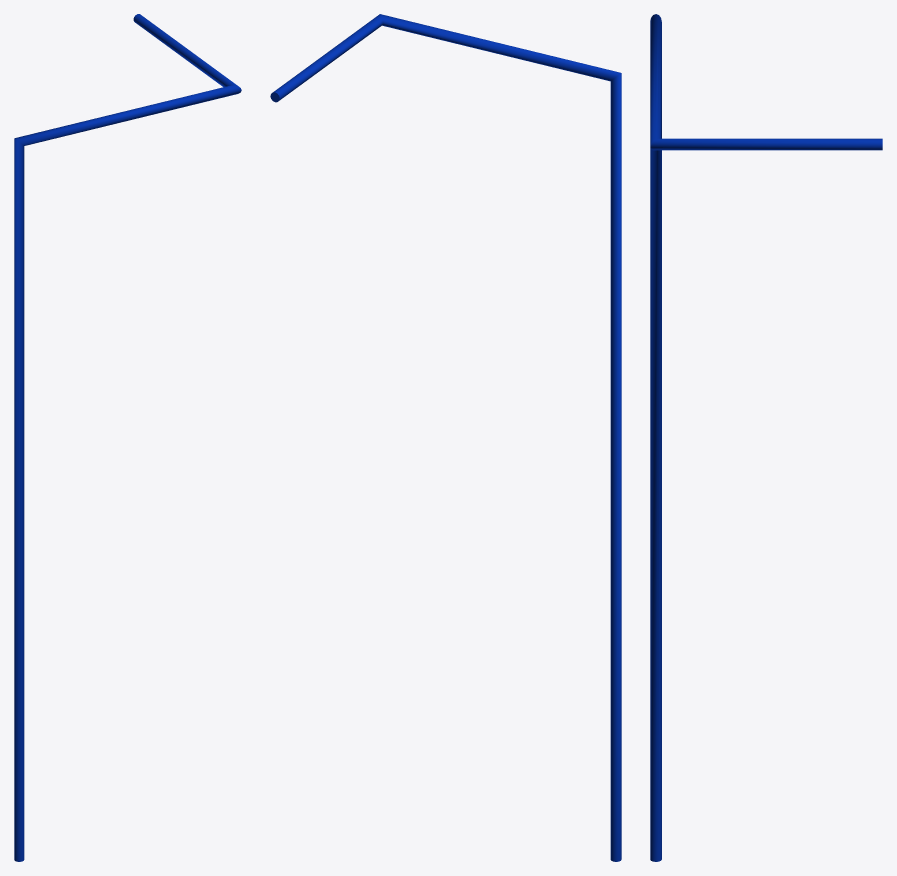
File: 21_firemans_pole.glb
3 renders of one model, left to right at view 1: azimuth 30°, elevation 25°; view 2: azimuth 150°, elevation 25°; view 3: azimuth 270°, elevation 25°, orthographic. The views are drawn at different scales.
Parts seen in each view (by area): view 1: Geom3D; view 2: Geom3D; view 3: Geom3D.
Part boxes in pixels (left/top/right/bottom): Geom3D: left=14, top=14, right=241, bottom=861; Geom3D: left=270, top=14, right=621, bottom=861; Geom3D: left=650, top=14, right=882, bottom=861.
Size of the model in its own units: 0.78 by 2.4 by 0.6.
